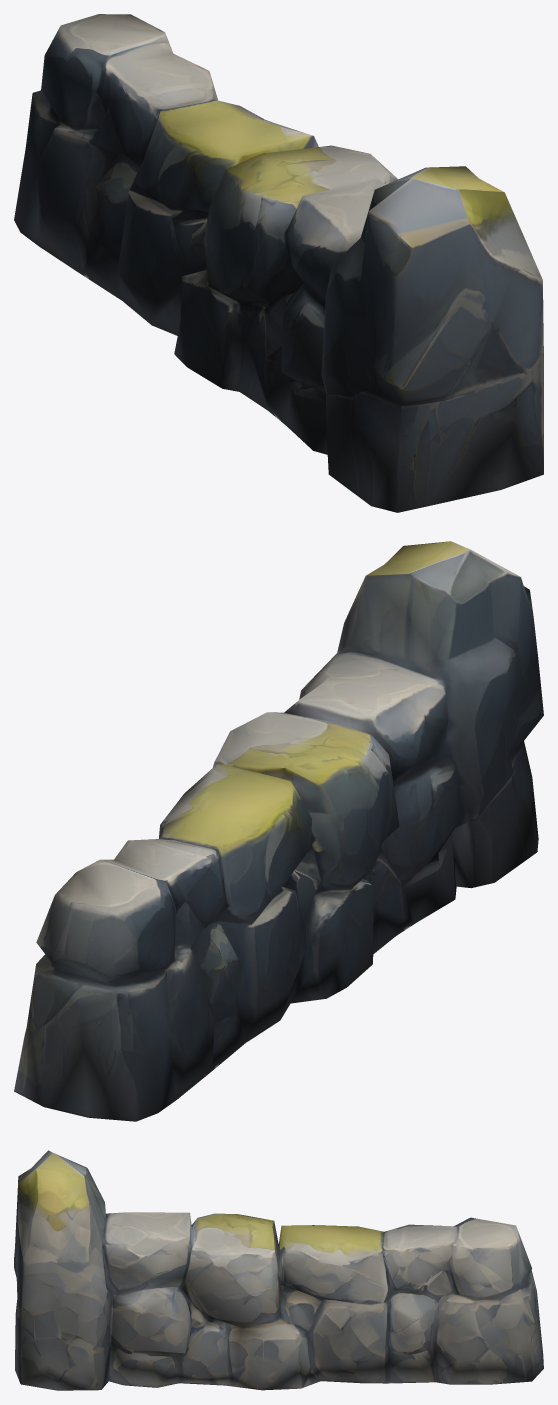
Rendered from arena_wall2a.glb.
3 views of the same model, one above another, from view 1: azimuth 30°, elevation 25°; view 2: azimuth 150°, elevation 25°; view 3: azimuth 270°, elevation 25° (orthographic). The views are drawn at different scales.
Parts seen in each view (by area): view 1: tripo_node_f0398dc2-9ec6-41f7-bc73-4a444109056b; view 2: tripo_node_f0398dc2-9ec6-41f7-bc73-4a444109056b; view 3: tripo_node_f0398dc2-9ec6-41f7-bc73-4a444109056b.
Part boxes in pixels (x1,y1,x2,y2): tripo_node_f0398dc2-9ec6-41f7-bc73-4a444109056b: (14,14,543,512); tripo_node_f0398dc2-9ec6-41f7-bc73-4a444109056b: (14,541,543,1121); tripo_node_f0398dc2-9ec6-41f7-bc73-4a444109056b: (14,1150,543,1390).
Size of the model in its own units: 0.2595 by 0.4133 by 1.
Materials: 1 (1 with a texture image).
